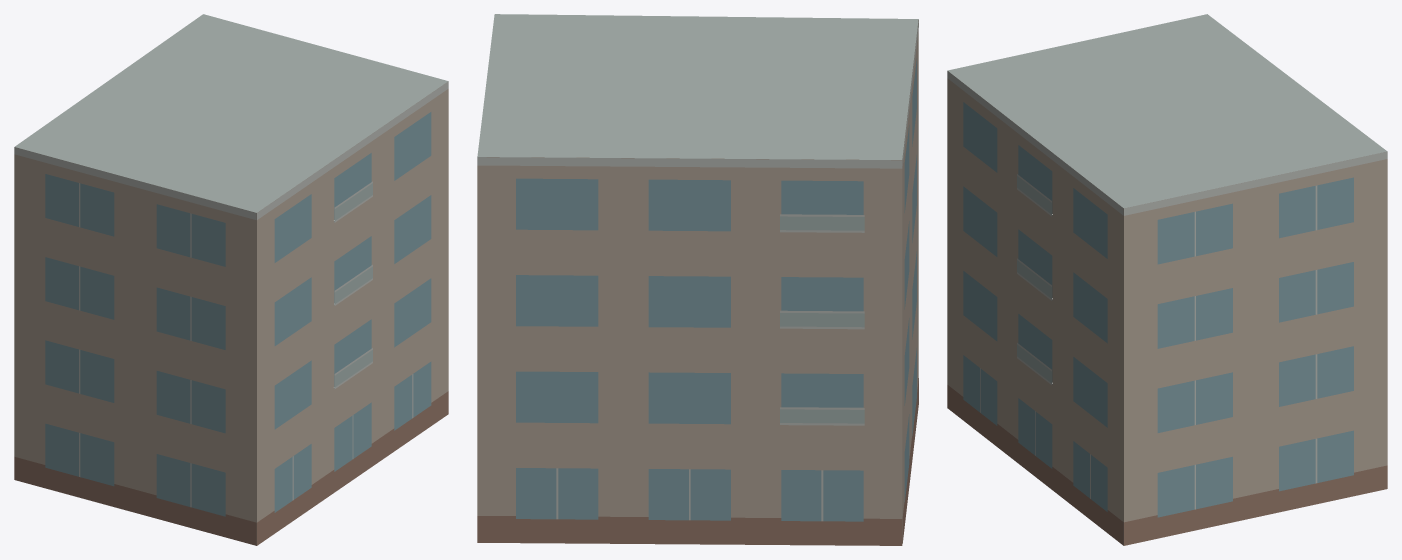
The model's file is survey-upis-32602731.glb.
The picture shows the model from 3 angles, left to right: view 1: azimuth 30°, elevation 25°; view 2: azimuth 150°, elevation 25°; view 3: azimuth 270°, elevation 25°; orthographic projection. The views are drawn at different scales.
Visible parts, largest first — view 1: survey-upis-32602731.tmp; view 2: survey-upis-32602731.tmp; view 3: survey-upis-32602731.tmp.
Boxes of the visible parts, bbox=[...] form: survey-upis-32602731.tmp: bbox=[14, 14, 448, 545]; survey-upis-32602731.tmp: bbox=[477, 14, 918, 545]; survey-upis-32602731.tmp: bbox=[947, 14, 1387, 545].
Bounding box in the file's own units: 13.6 × 11 × 13.02.
